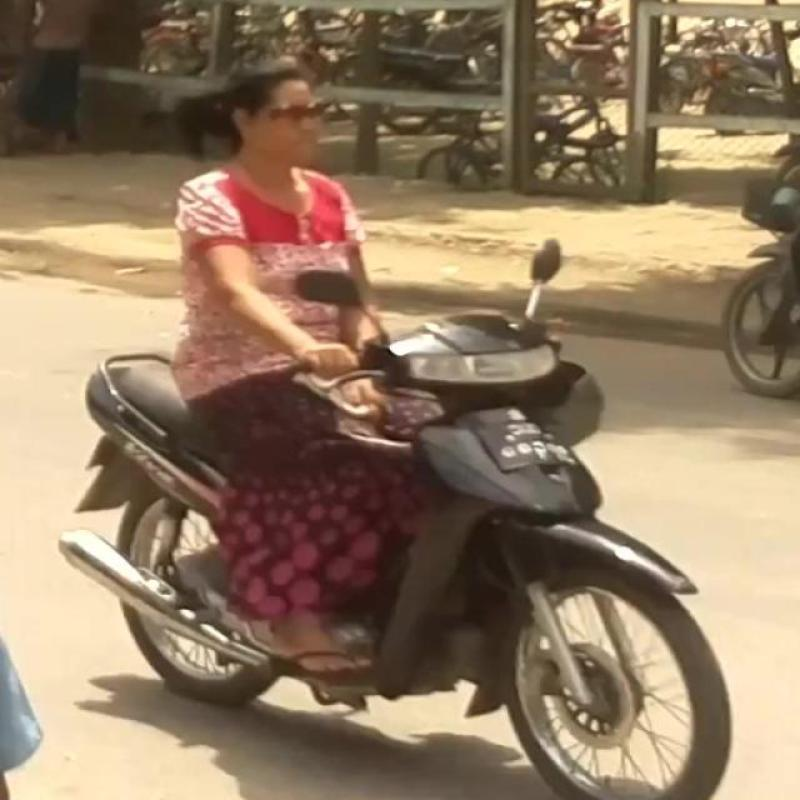nohelmet: (172, 39, 404, 196)
